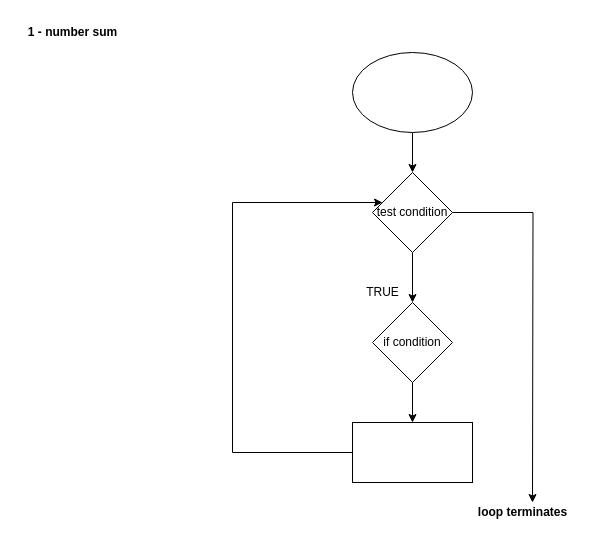
Some shapes in this 594 by 544 pixel diagram are drawn without their labels. The shapes that lost their labels are listed below. From the top down, each one's box as (x1, y1, x2, y2) in pixels, then its label:
(352, 52, 472, 132): start
(352, 422, 472, 482): while body of loop
